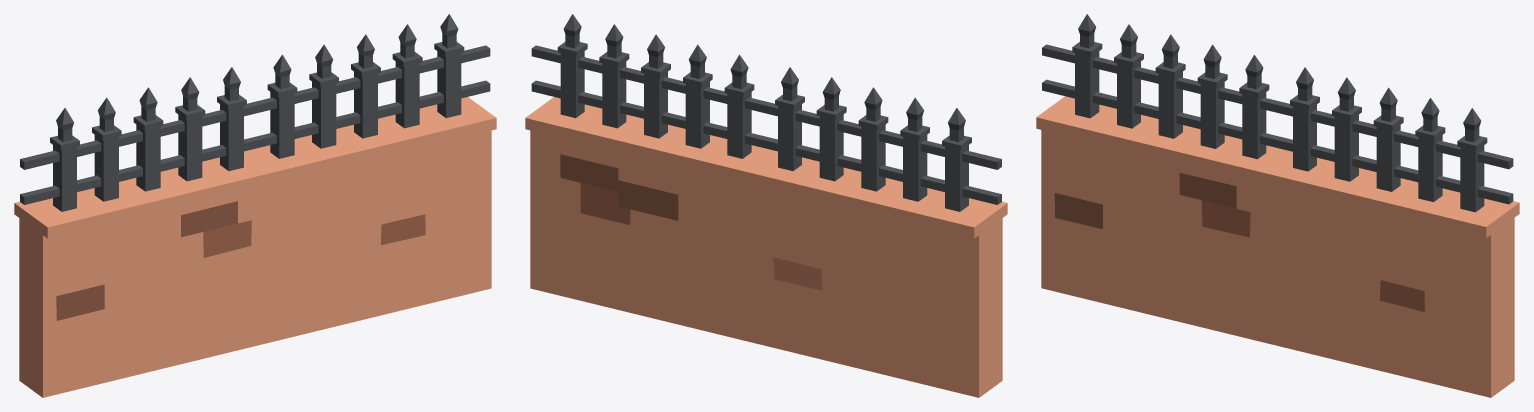
File: Building_Objects_Wall_02.fbx
3 views of the same model, side by side, from view 1: azimuth 30°, elevation 25°; view 2: azimuth 150°, elevation 25°; view 3: azimuth 330°, elevation 25° (orthographic).
Visible parts, largest first — view 1: Building_Objects_Wall_02; view 2: Building_Objects_Wall_02; view 3: Building_Objects_Wall_02.
Boxes of the visible parts, box(x1,y1,x2,y2) form: Building_Objects_Wall_02: box(14, 14, 496, 397); Building_Objects_Wall_02: box(525, 14, 1007, 397); Building_Objects_Wall_02: box(1036, 14, 1519, 397).
Size of the model in its own units: 451 by 253 by 56.11.
